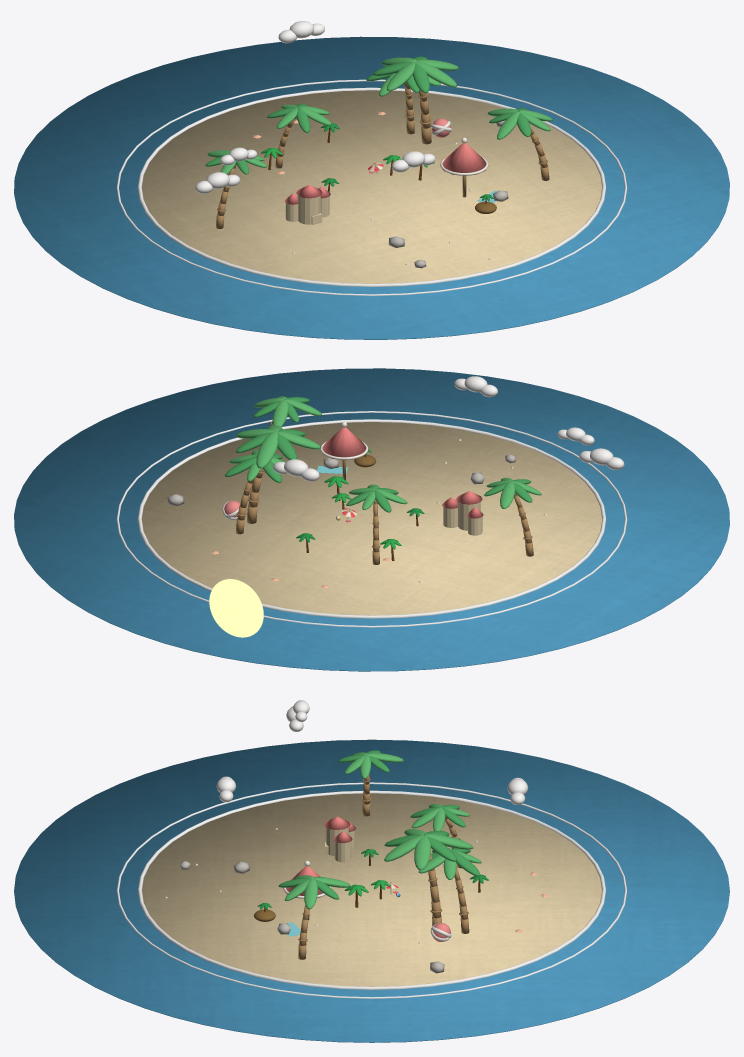
Rendered from stage-beach.glb.
3 renders of one model, top to bottom at view 1: azimuth 30°, elevation 25°; view 2: azimuth 150°, elevation 25°; view 3: azimuth 270°, elevation 25°, orthographic.
Visible parts, largest first — view 1: stage-beach-diorama-ocean, stage-beach-diorama-floor, Torus.018, Torus.019, Cone, Cylinder.031, stage-beach; view 2: stage-beach-diorama-ocean, stage-beach-diorama-floor, Torus.018, stage-beach, Torus.019, Cone, Sphere.045; view 3: stage-beach-diorama-ocean, stage-beach-diorama-floor, Torus.018, Torus.019.
Part boxes in pixels (x1,y1,x2,y2): stage-beach-diorama-ocean: [14, 36, 729, 339]; stage-beach-diorama-floor: [141, 90, 602, 283]; Torus.018: [137, 87, 606, 286]; Torus.019: [116, 79, 627, 295]; Cone: [440, 143, 486, 175]; Cylinder.031: [298, 196, 320, 224]; stage-beach: [268, 128, 496, 213]; stage-beach-diorama-ocean: [14, 368, 729, 671]; stage-beach-diorama-floor: [141, 422, 602, 615]; Torus.018: [137, 419, 606, 618]; stage-beach: [209, 454, 418, 637]; Torus.019: [116, 411, 627, 627]; Cone: [320, 427, 366, 460]; Sphere.045: [256, 431, 277, 468]; stage-beach-diorama-ocean: [14, 739, 729, 1042]; stage-beach-diorama-floor: [142, 793, 601, 986]; Torus.018: [138, 790, 605, 989]; Torus.019: [117, 782, 626, 998].
Size of the model in its own units: 164 by 28.85 by 164.
Materials: 47 (47 with a texture image).
